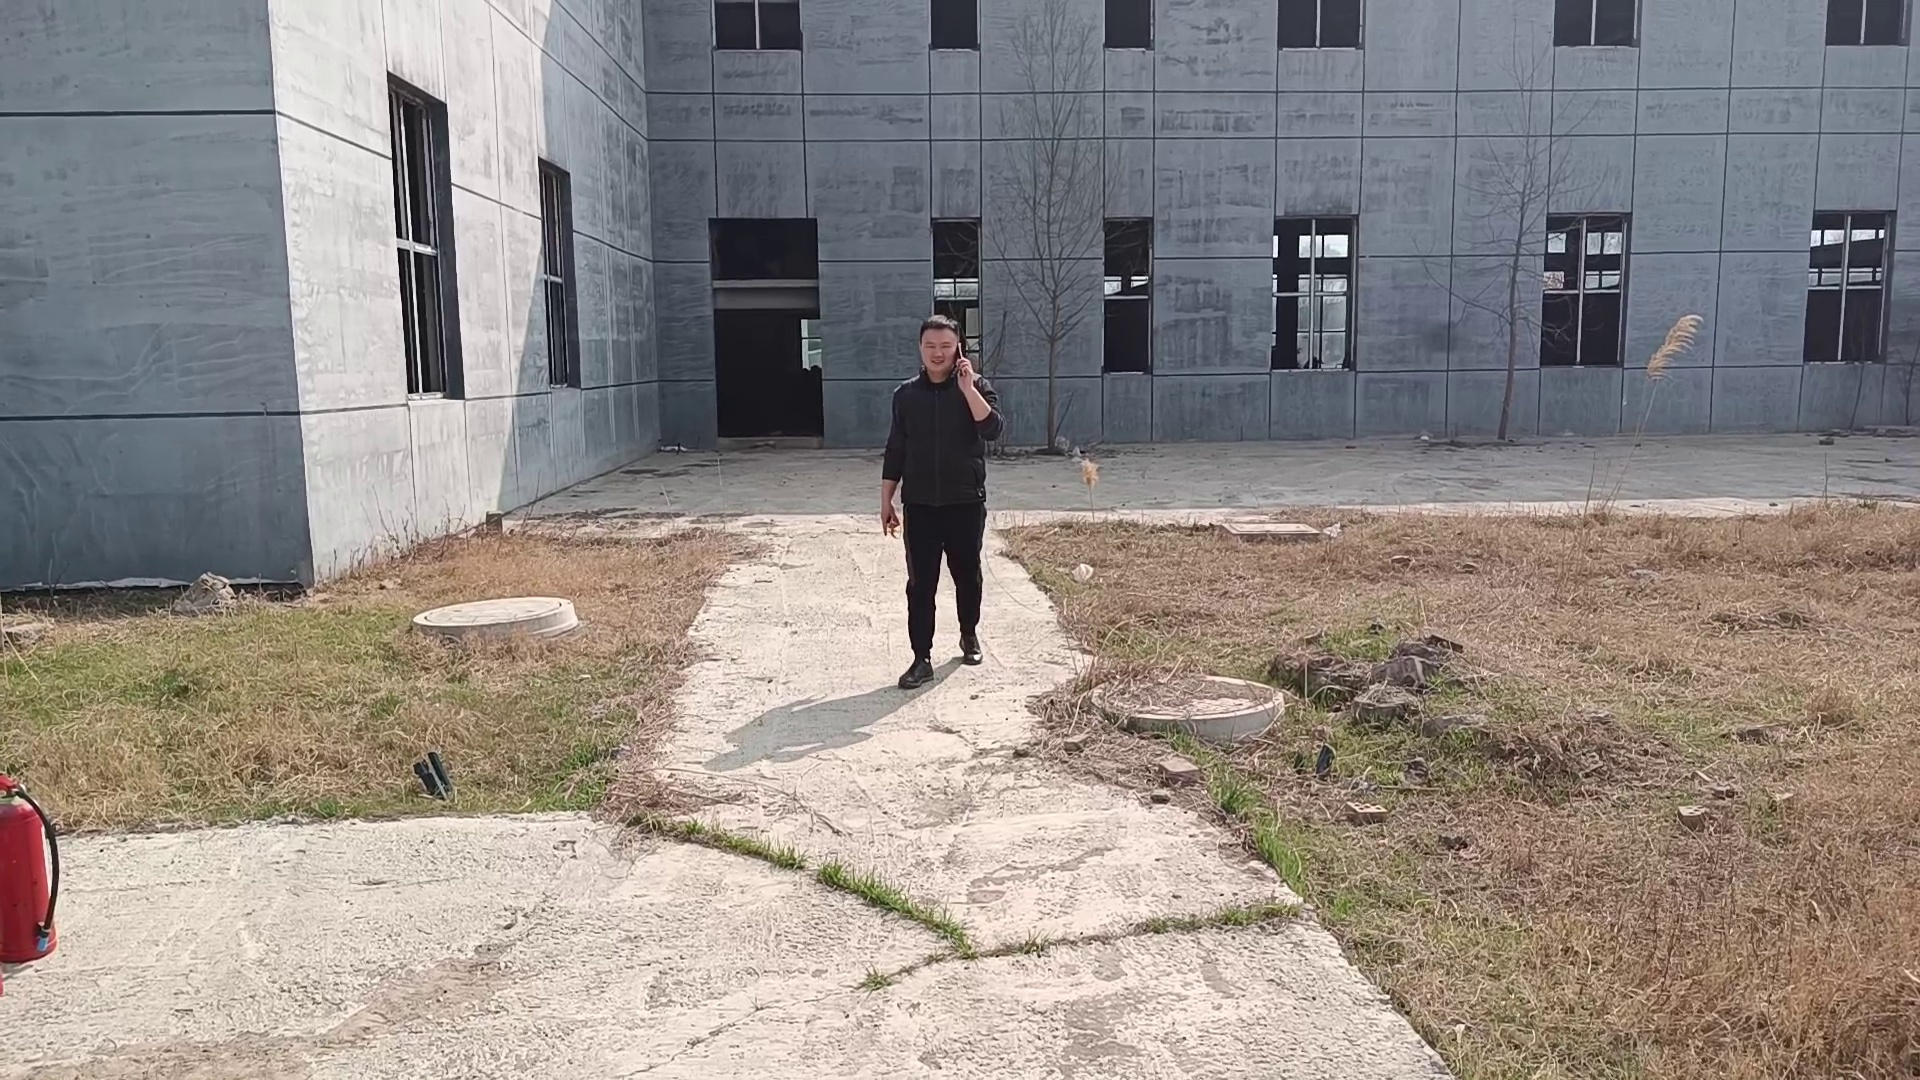phone: (915, 315, 985, 397)
